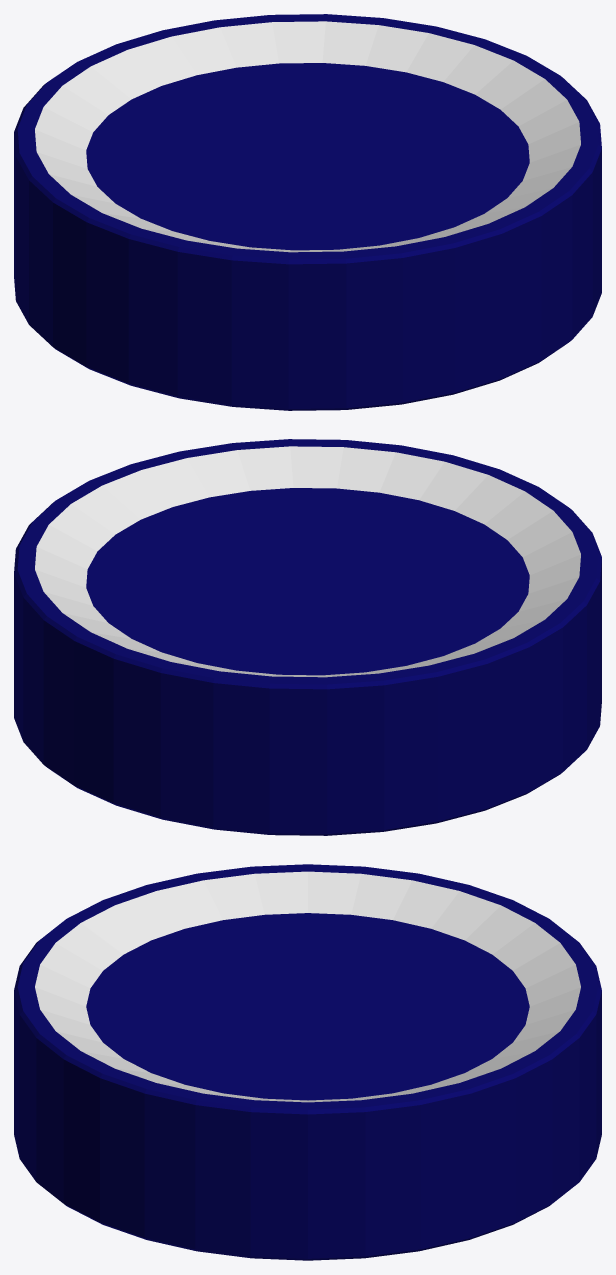
The model's file is puck.fbx.
3 views of the same model, one above another, from view 1: azimuth 30°, elevation 25°; view 2: azimuth 150°, elevation 25°; view 3: azimuth 270°, elevation 25° (orthographic).
Visible parts, largest first — view 1: Cylinder; view 2: Cylinder; view 3: Cylinder.
Boxes of the visible parts, x1,y1,x2,y2 form: Cylinder: (14,14,601,410); Cylinder: (14,439,601,835); Cylinder: (14,864,601,1260).
Size of the model in its own units: 200 by 56.67 by 200.
